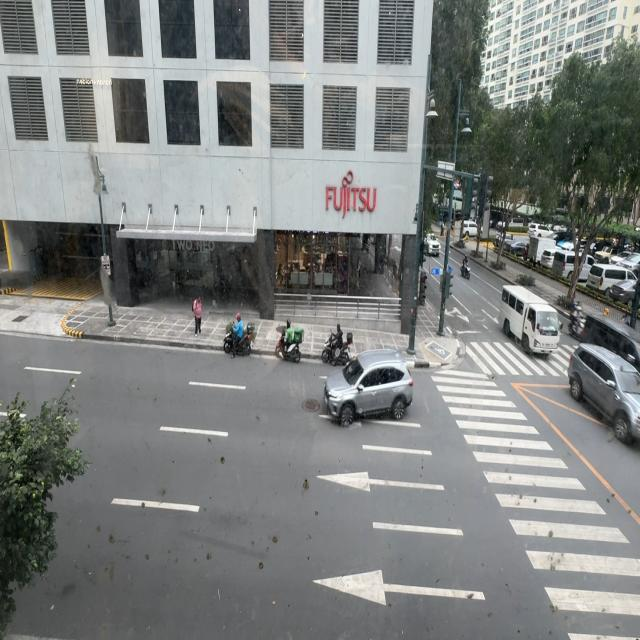pedestrain: (193, 296, 202, 338)
waiting: (621, 313, 630, 327)
